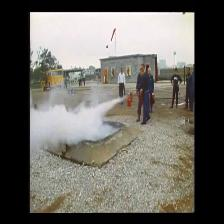smoke: (33, 99, 112, 143)
